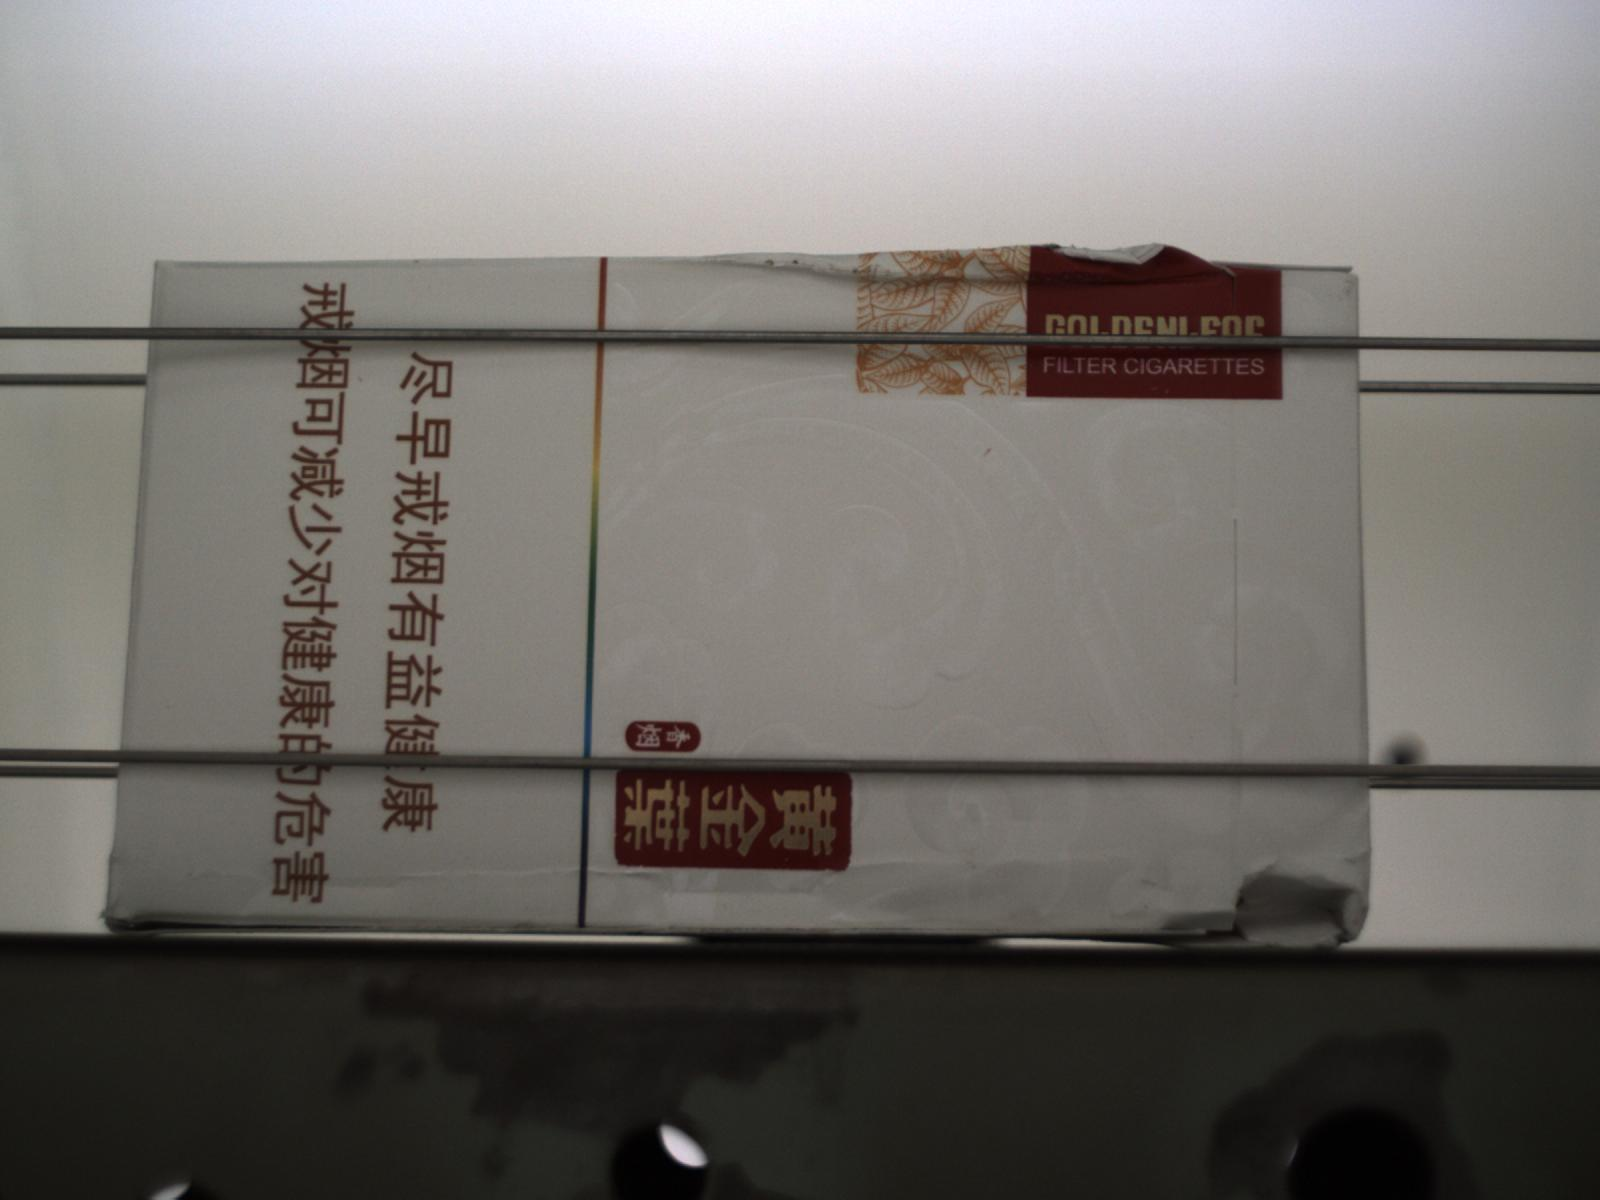boxDamage_back_heavy: (98, 851, 1377, 948)
boxDamage_slight: (654, 237, 1238, 282)
dirtySpot: (984, 446, 994, 458), (357, 376, 367, 384)
